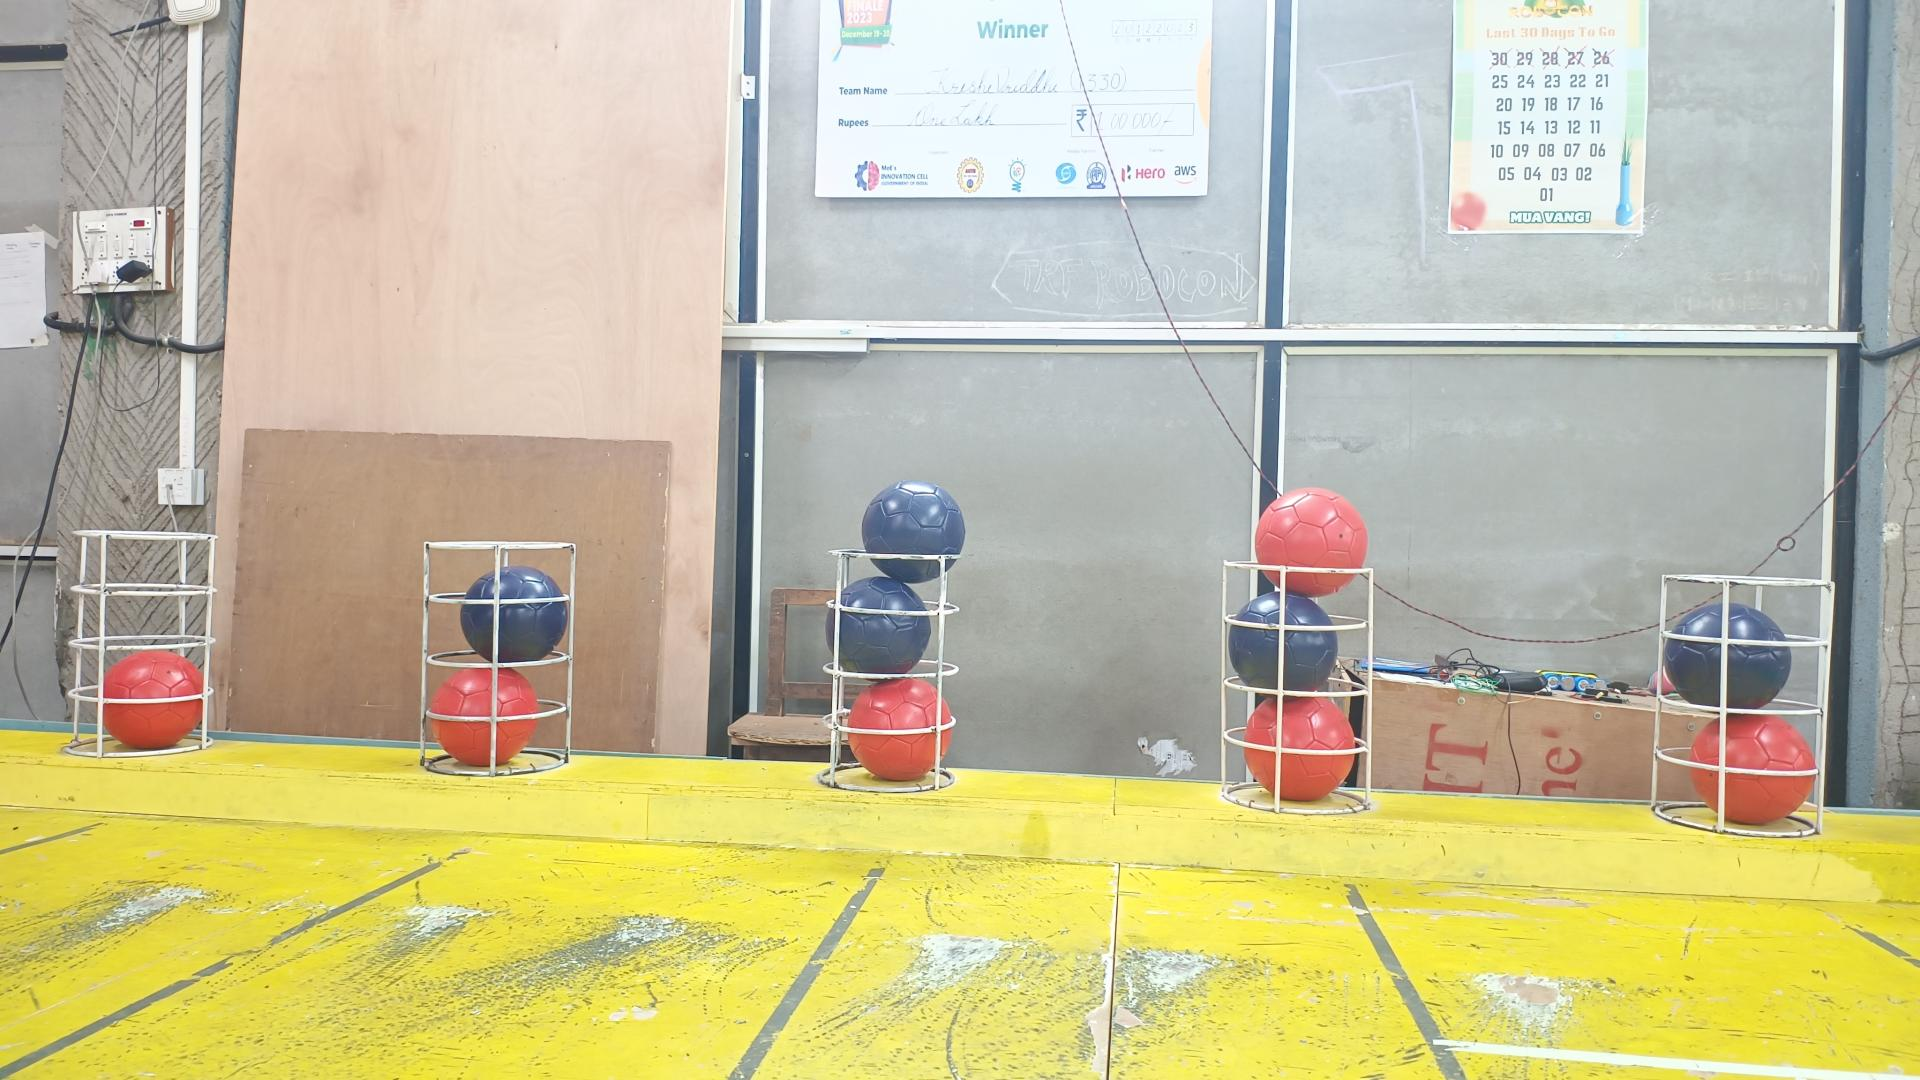dhoka: (1665, 600, 1792, 712), (1226, 588, 1338, 694), (862, 480, 964, 585), (462, 566, 570, 663), (825, 578, 930, 675)
laale: (1692, 712, 1815, 825), (1253, 488, 1369, 596), (1245, 698, 1357, 803), (427, 667, 541, 769), (848, 679, 952, 781), (102, 649, 203, 750)
